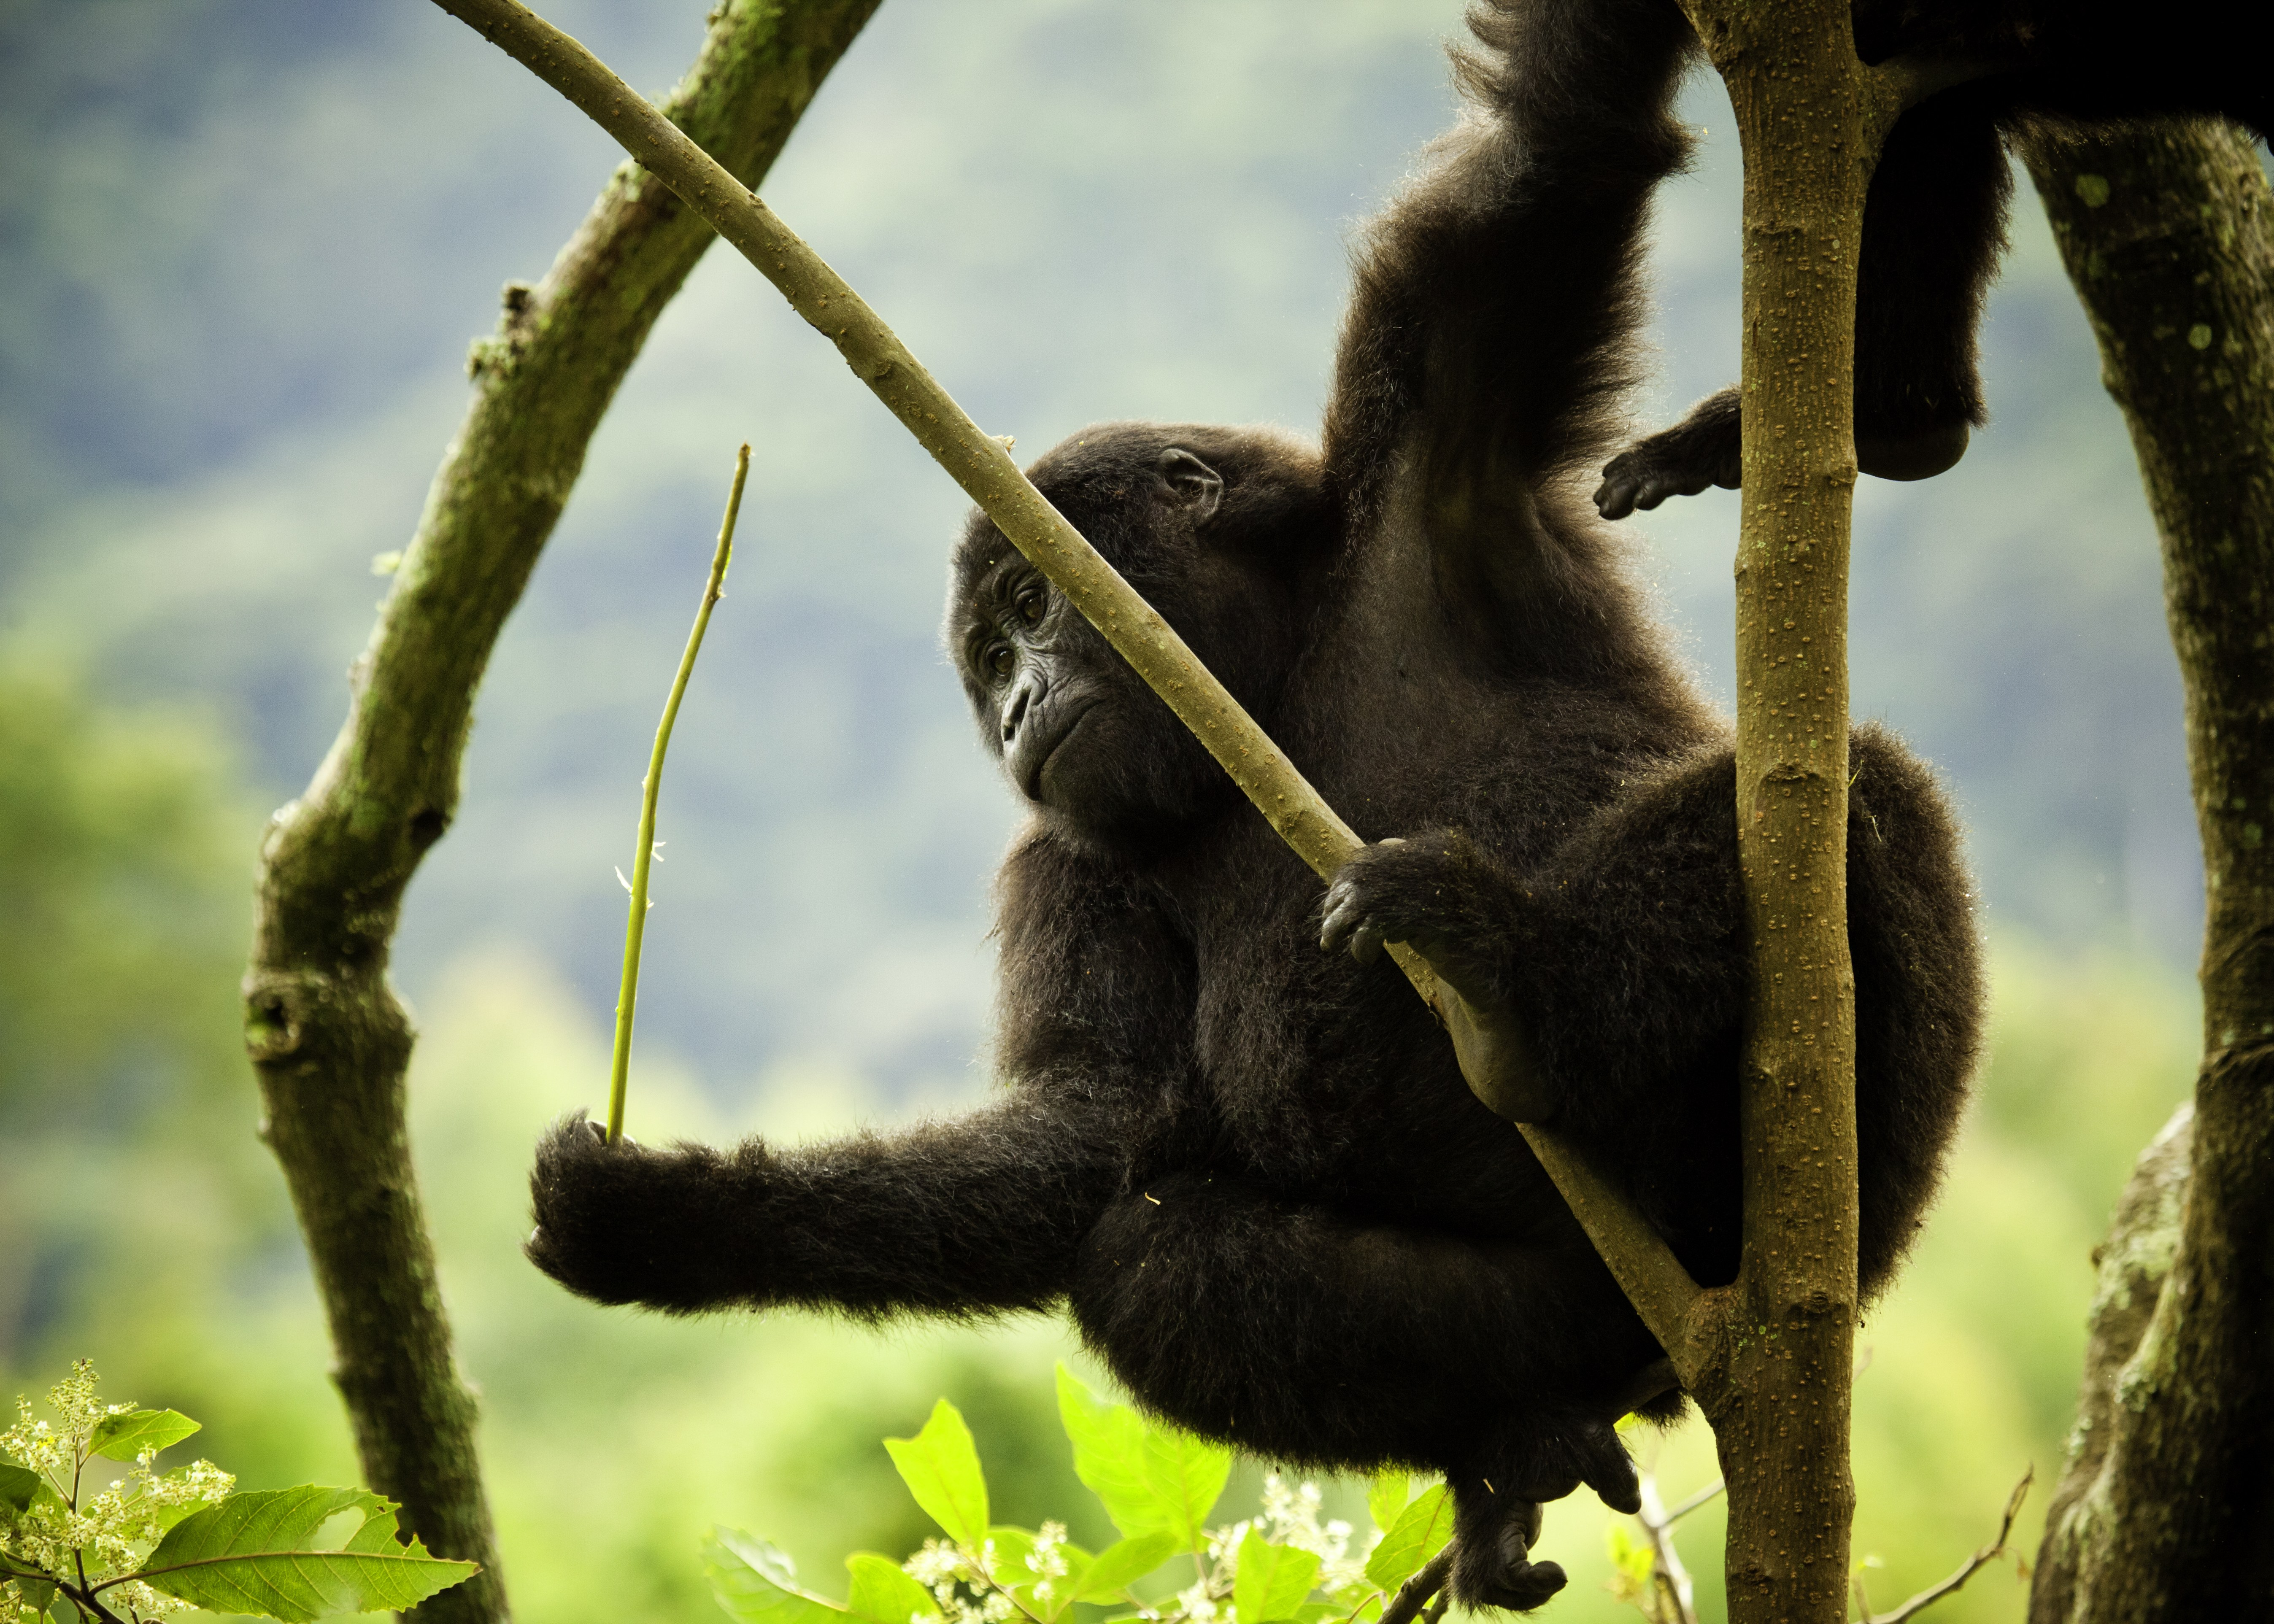Goriila: (464, 216, 2156, 1534)
